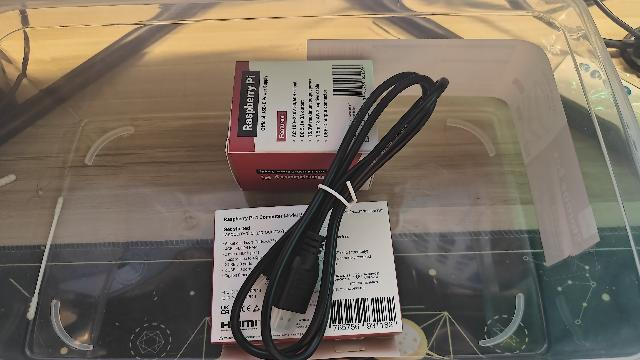charger_box: (225, 61, 380, 196)
hdmi_cable: (215, 57, 440, 316)
rpi_box: (209, 202, 417, 351)
